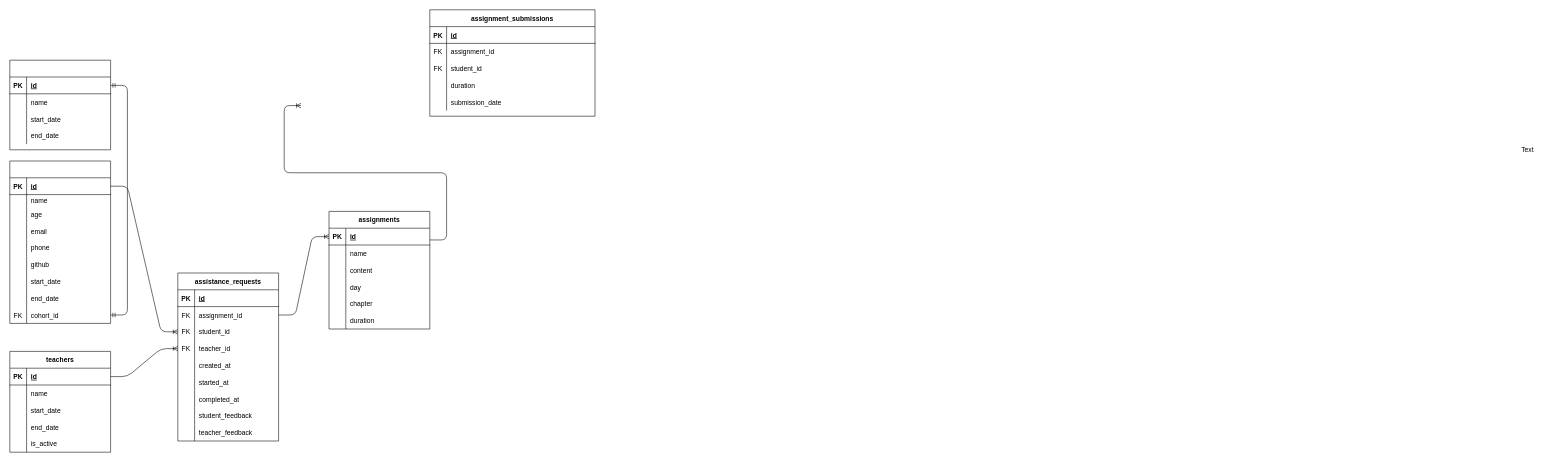
The diagram is 1548 pixels wide and 462 high, and some of its shapes have lost their labels. The box of each missing label's shape, as (x1, y1, x2, y2) in pixels:
cohorts: (9, 60, 111, 150)
students: (9, 160, 111, 323)
